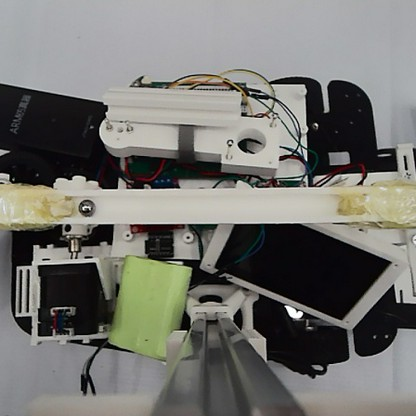ironball: (76, 195, 95, 217)
